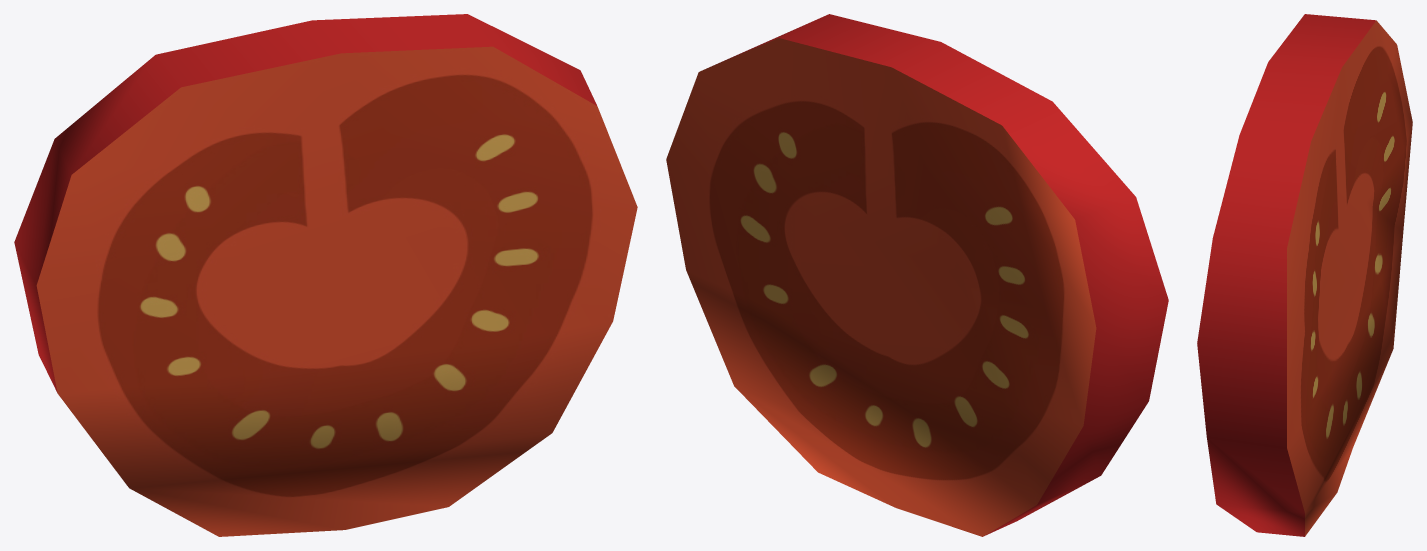
Rendered from tomate_halb.fbx.
3 views of the same model, side by side, from view 1: azimuth 30°, elevation 25°; view 2: azimuth 150°, elevation 25°; view 3: azimuth 270°, elevation 25° (orthographic). The views are drawn at different scales.
Parts seen in each view (by area): view 1: tomate; view 2: tomate; view 3: tomate.
Part boxes in pixels (x1,y1,x2,y2): tomate: [14, 14, 637, 536]; tomate: [666, 14, 1168, 536]; tomate: [1197, 14, 1412, 536].
Size of the model in its own units: 230 by 186 by 85.37.
2 materials, 1 textured.
